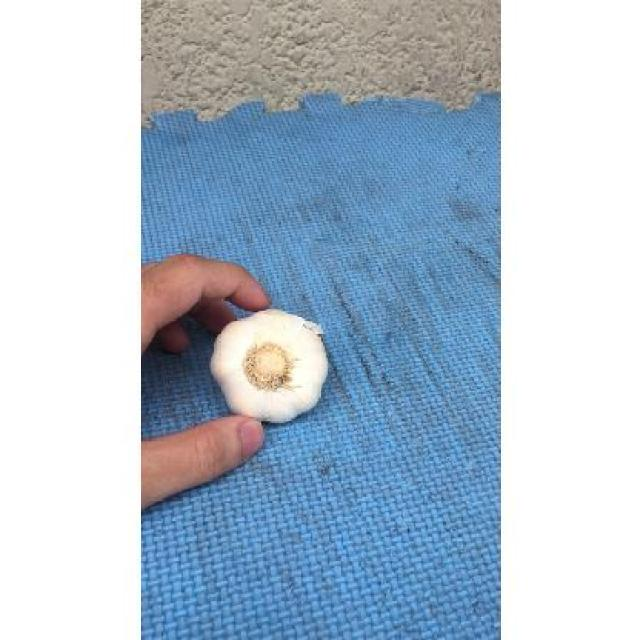Garlic: (202, 289, 342, 438)
